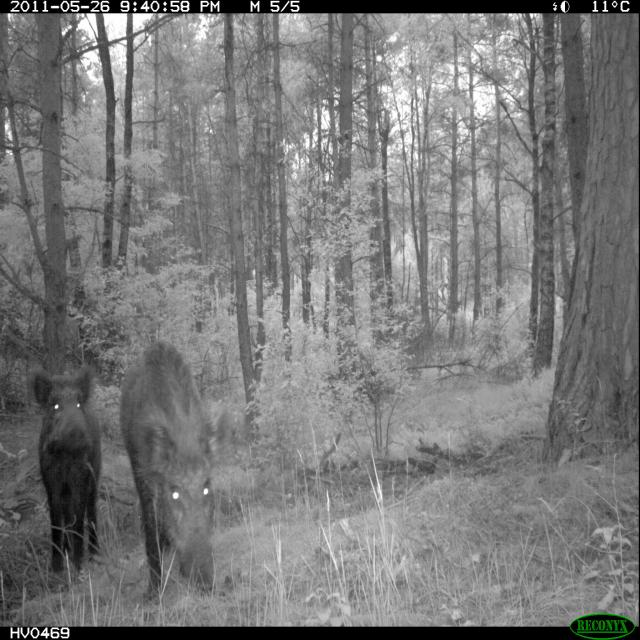boar: (114, 327, 251, 621), (28, 357, 124, 595)
